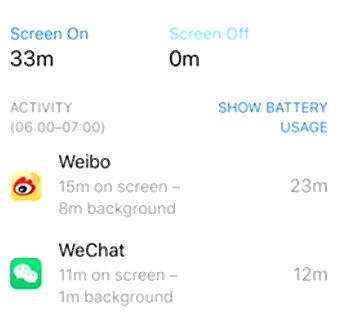activity: (4, 96, 111, 143)
app: (7, 149, 335, 223), (6, 235, 334, 309)
